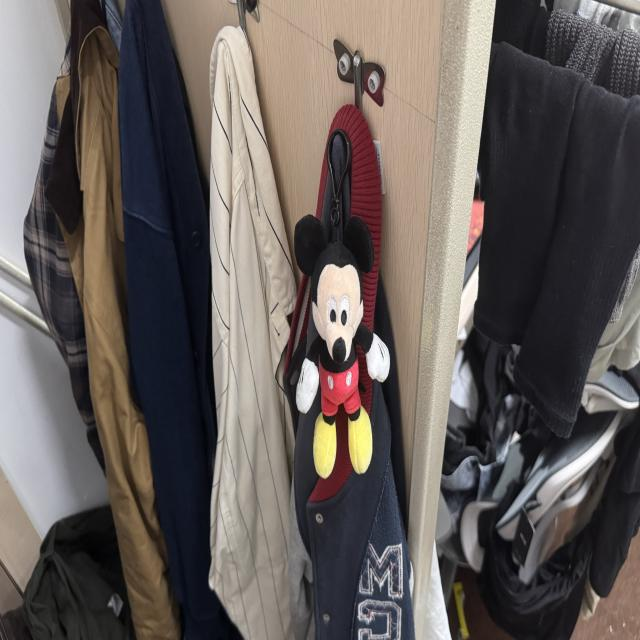mickey: (295, 216, 389, 478)
